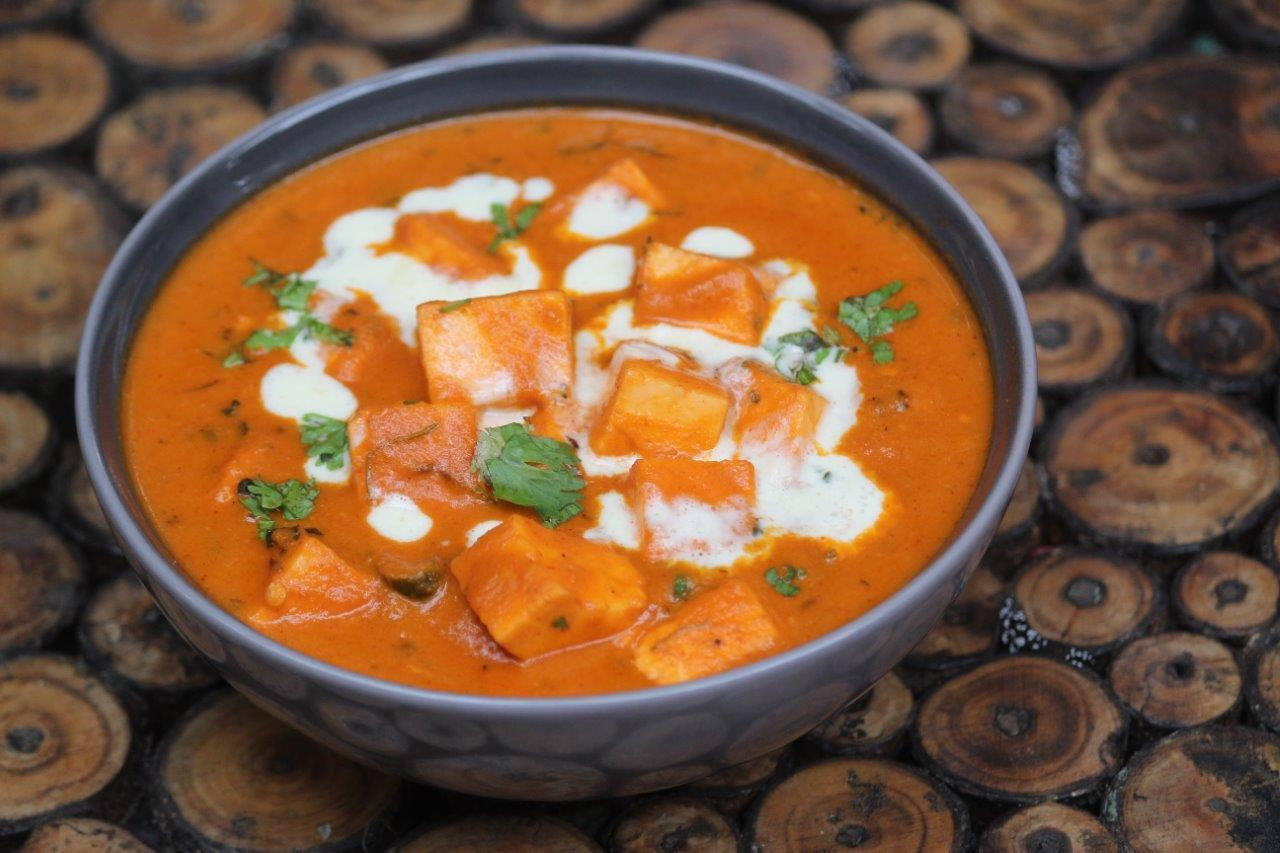paneer: (246, 206, 892, 631)
